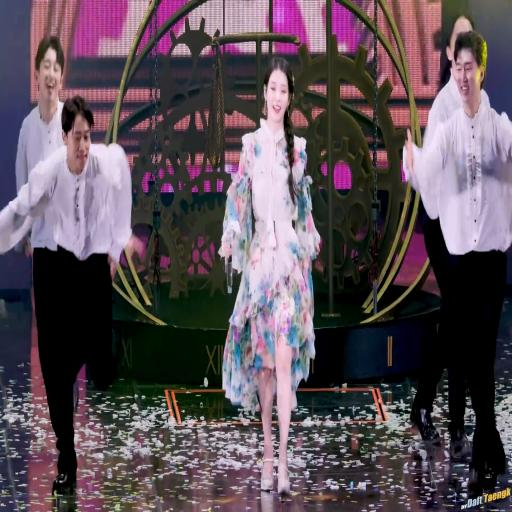IU: (262, 57, 296, 123)
